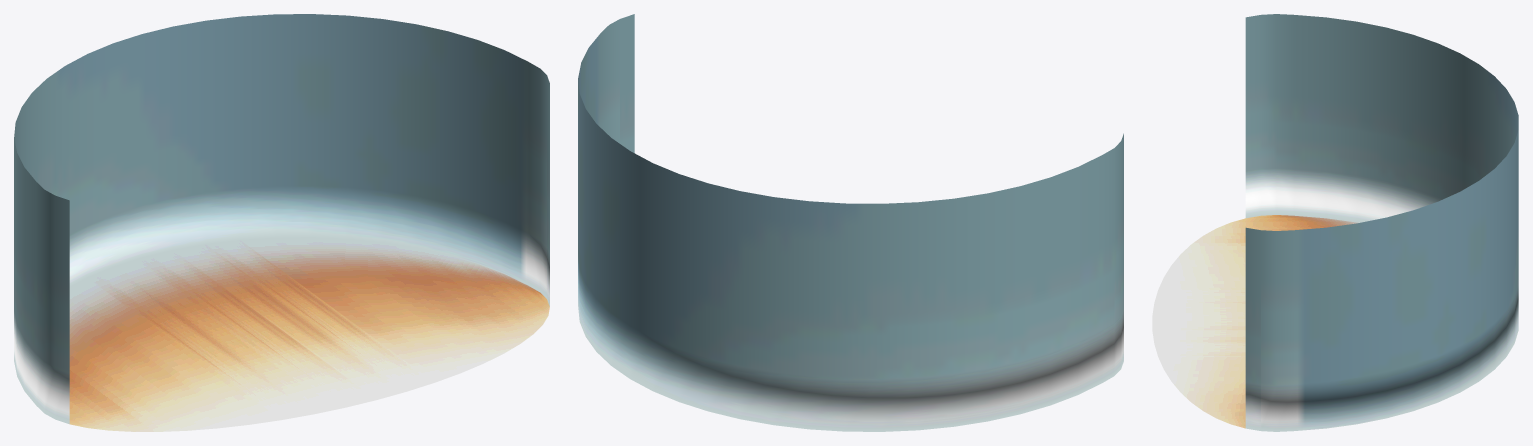
The model's file is StageSky1.fbx.
3 renders of one model, left to right at view 1: azimuth 30°, elevation 25°; view 2: azimuth 150°, elevation 25°; view 3: azimuth 270°, elevation 25°, orthographic. The views are drawn at different scales.
Parts seen in each view (by area): view 1: batt_bg10; view 2: batt_bg10; view 3: batt_bg10.
Part boxes in pixels (x1,y1,x2,y2): batt_bg10: (14, 14, 549, 431); batt_bg10: (578, 14, 1123, 431); batt_bg10: (1152, 14, 1518, 431).
Bounding box in the file's own units: 69.65 × 30.06 × 49.68.
